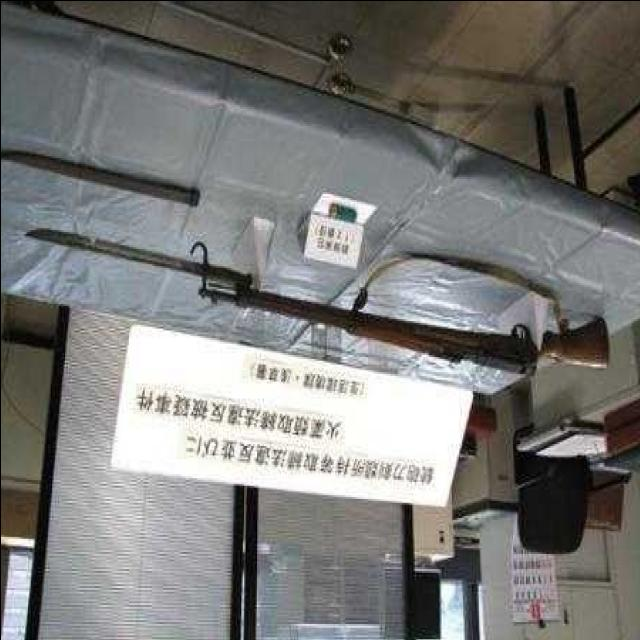heavyweapon: (189, 257, 610, 384)
